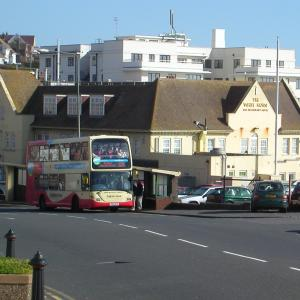Vehicle-registration-plate: (110, 202, 120, 207), (268, 195, 277, 197)
